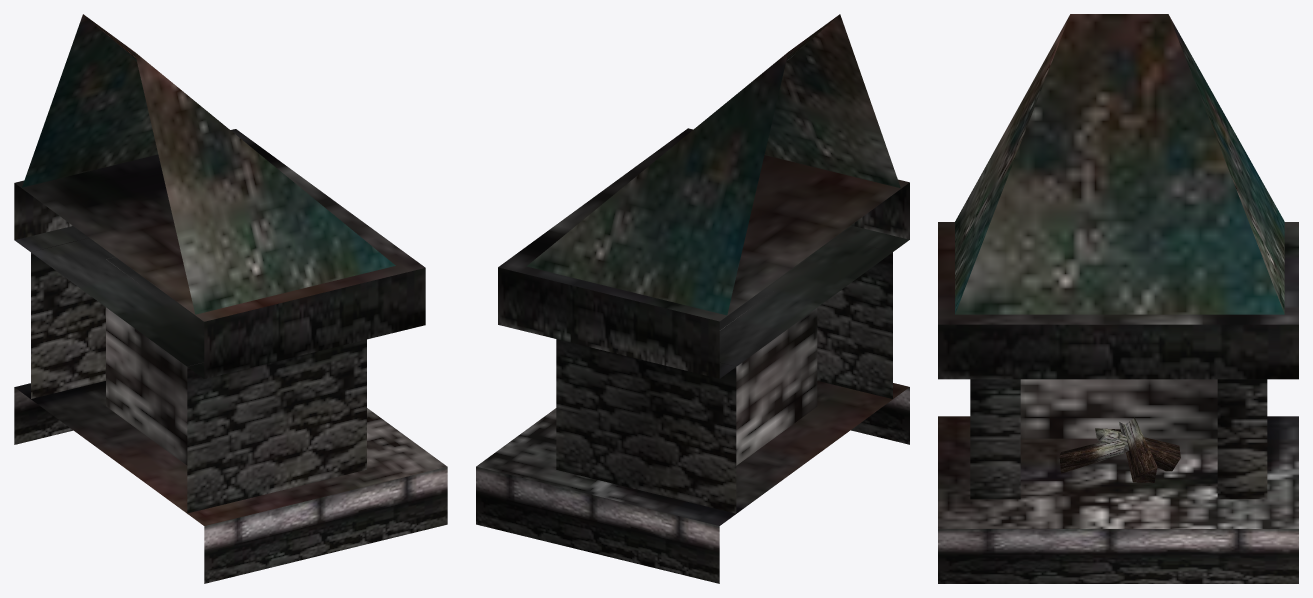
Rendered from DT_FIREPLACE_V2.glb.
3 renders of one model, left to right at view 1: azimuth 30°, elevation 25°; view 2: azimuth 150°, elevation 25°; view 3: azimuth 270°, elevation 25°, orthographic. The views are drawn at different scales.
Visible parts, largest first — view 1: Mesh; view 2: Mesh; view 3: Mesh.
Part boxes in pixels (<box>): Mesh: <box>14,14,447,583</box>; Mesh: <box>476,14,909,583</box>; Mesh: <box>938,14,1298,583</box>.
Size of the model in its own units: 1.11 by 2.1 by 1.5.
2 materials, 2 textured.
